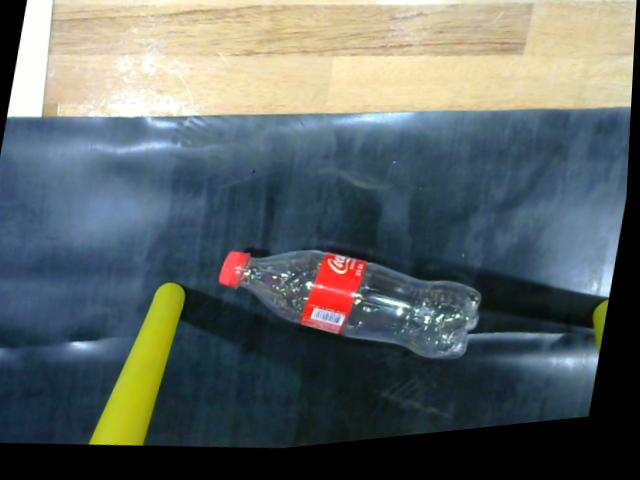bottle: (217, 249, 496, 375)
